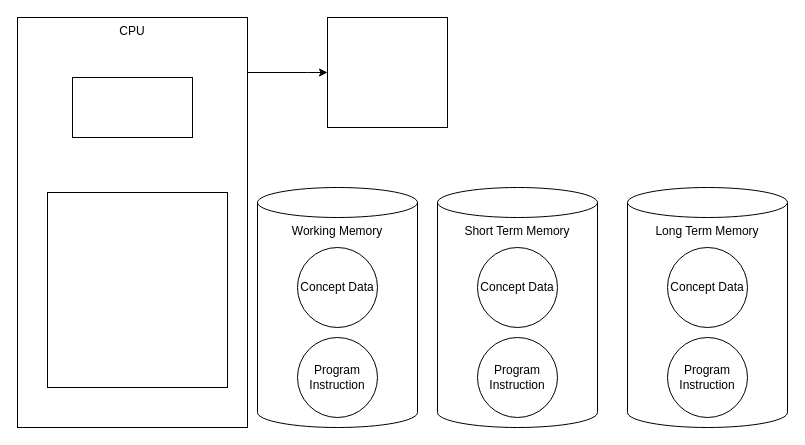
The diagram is 805 pixels wide and 445 high, and some of its shapes have lost their labels. Here are the shapes that lost their labels. From the top down, the centre of each, then its label:
pixel 387 72: Sensory Memory
pixel 132 107: Fetch -> Decode -> Execute Cycle
pixel 137 290: Registers
